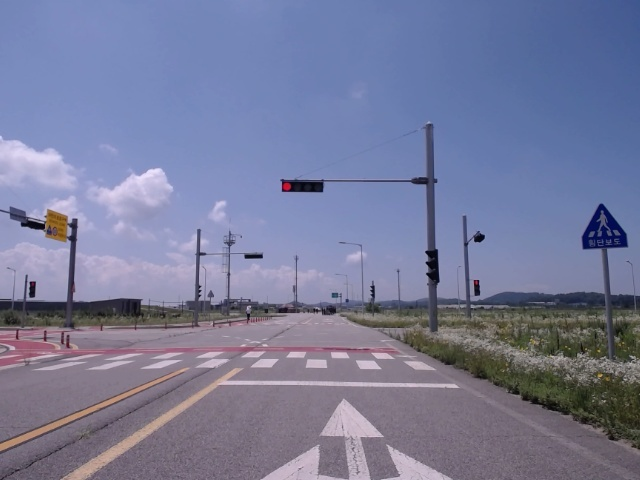red_4: (282, 182, 324, 192)
